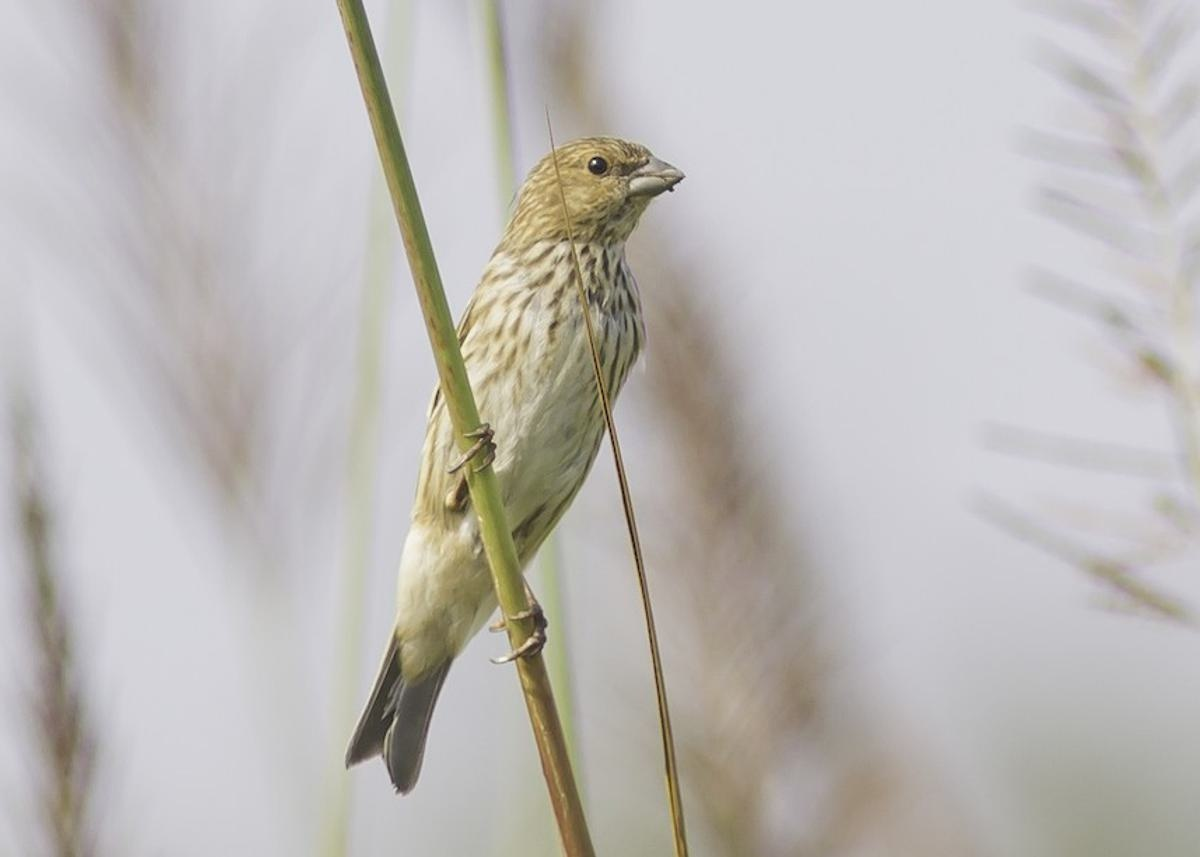rosefinch: (314, 81, 695, 796)
